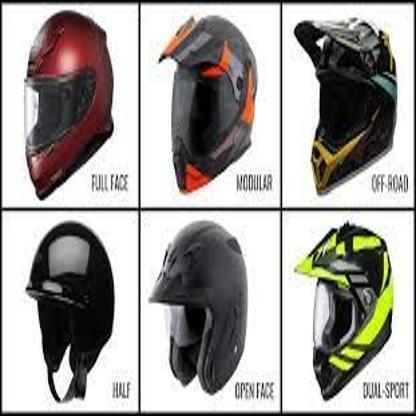not trash: (285, 10, 404, 199), (146, 6, 261, 194), (292, 216, 398, 402), (145, 219, 256, 394), (20, 13, 118, 204), (22, 219, 110, 403)
